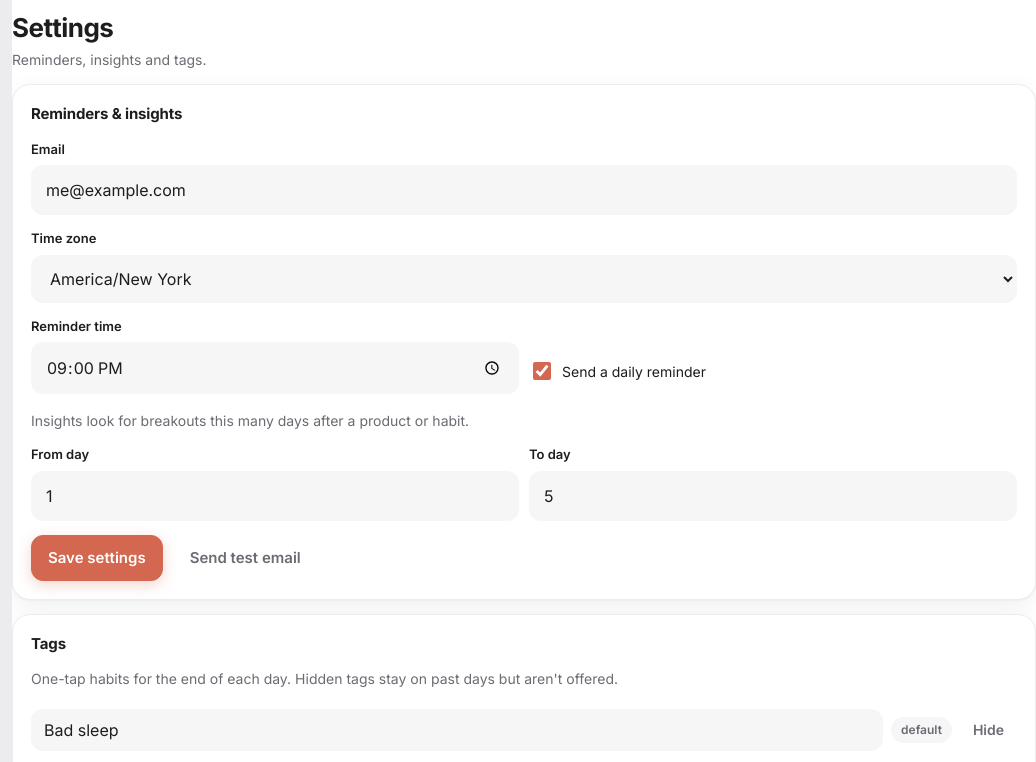
SettingsScreen reminders & insights › shows the server's validation message
Replace the text in the number field labelled "From day" with "9" at (275, 496), box top-left (31, 470), bottom-right (519, 520)
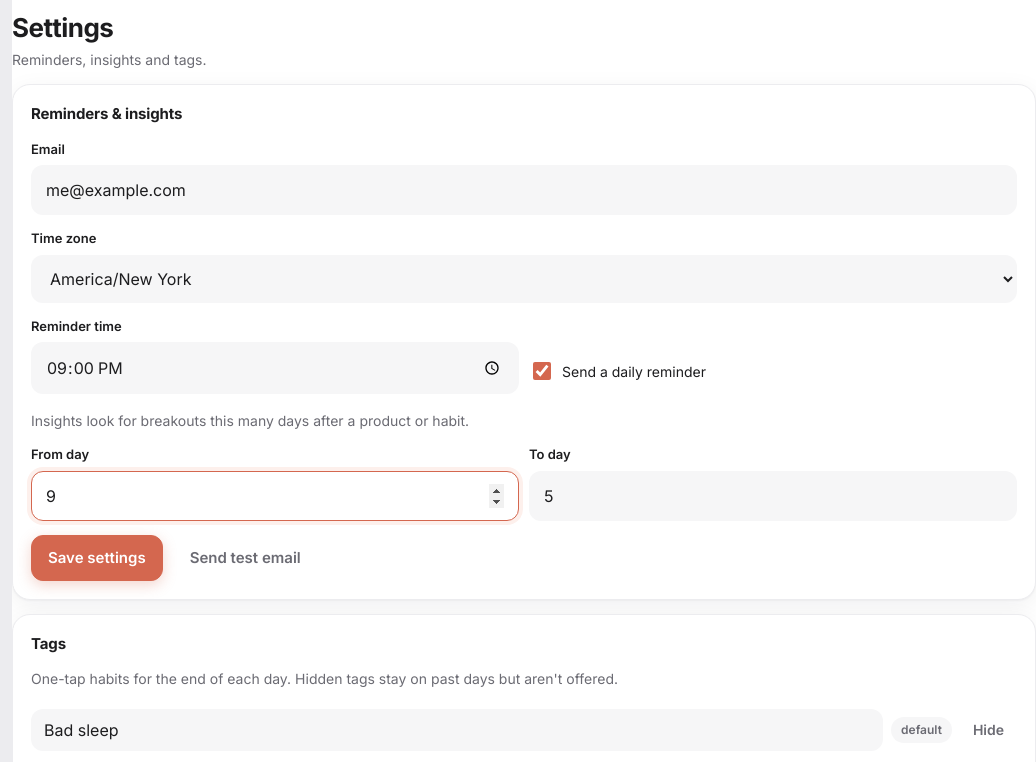
Click the button "Save settings".
click(97, 558)  # box top-left (31, 534), bottom-right (163, 581)
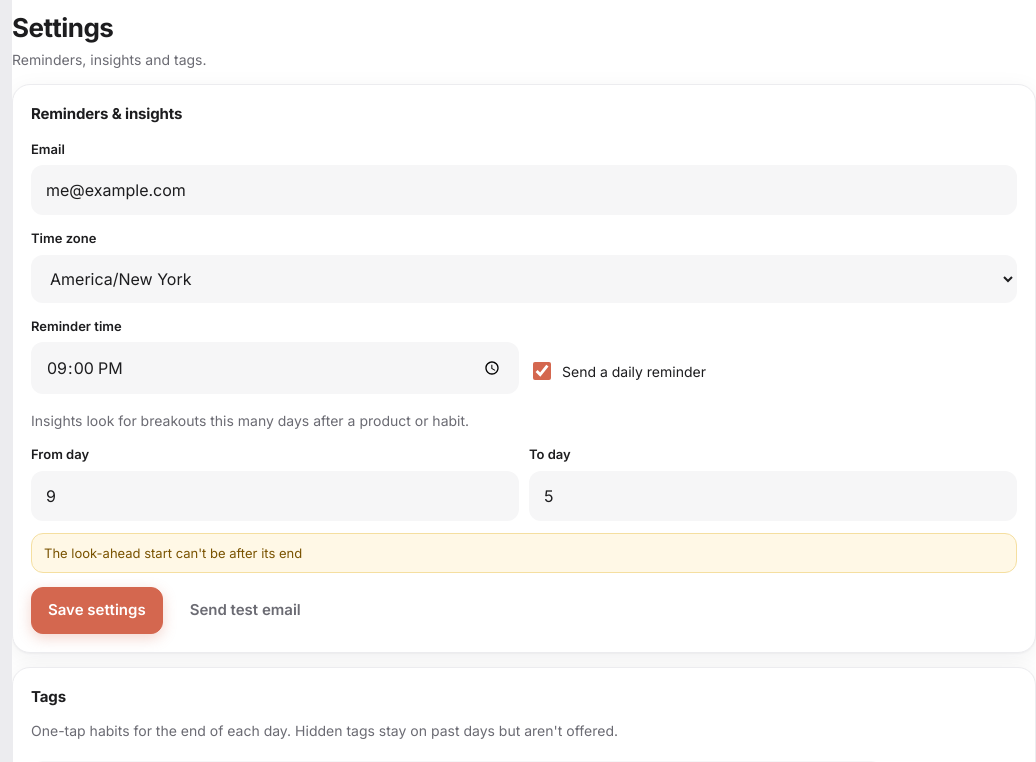
Now the message reads "The look-ahead start can't be after its end", box top-left (44, 544), bottom-right (302, 560)
